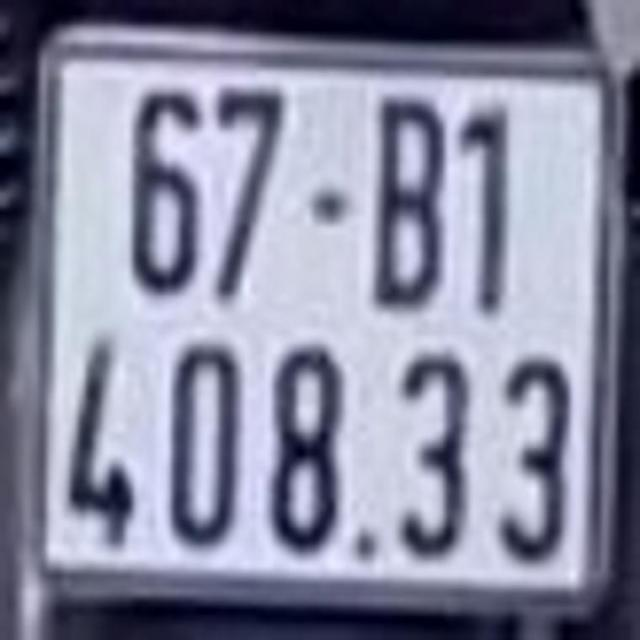0: (171, 342, 239, 540)
1: (458, 104, 516, 316)
3: (504, 346, 568, 565), (400, 350, 466, 556)
4: (65, 344, 139, 550)
6: (128, 88, 202, 292)
7: (208, 85, 290, 292)
8: (271, 344, 340, 550)
B: (380, 95, 446, 308)
